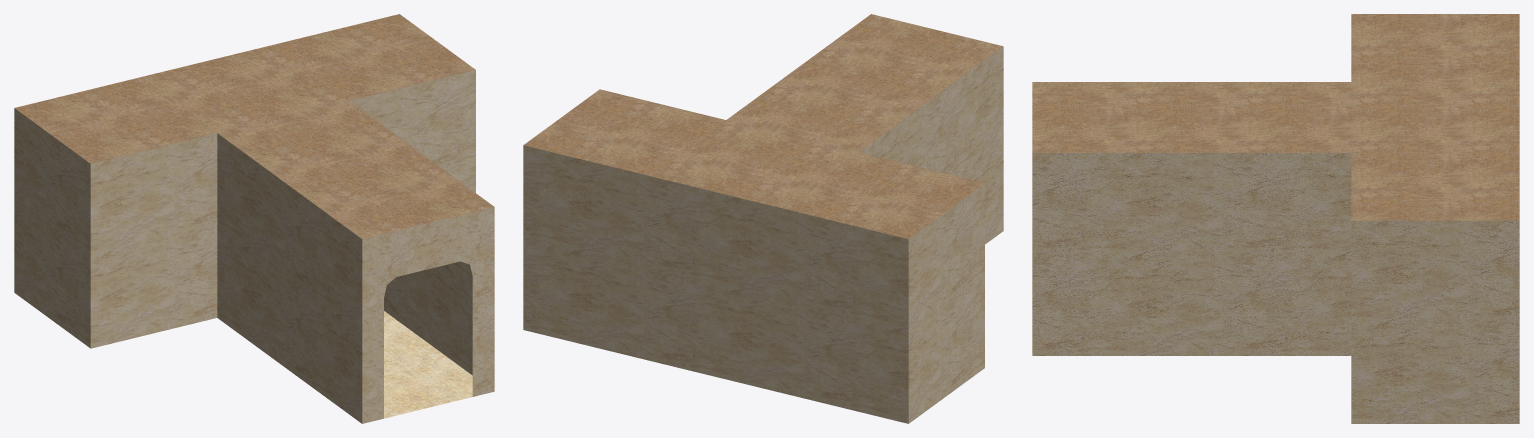
The model's file is thm_tato_imprv_building_s02_r1_foyer_mesh_l0.fbx.
3 renders of one model, left to right at view 1: azimuth 30°, elevation 25°; view 2: azimuth 150°, elevation 25°; view 3: azimuth 270°, elevation 25°, orthographic. The views are drawn at different scales.
Visible parts, largest first — view 1: mesh_node; view 2: mesh_node; view 3: mesh_node.
Boxes of the visible parts, <box> form: mesh_node: <box>14,14,494,423</box>; mesh_node: <box>523,14,1003,423</box>; mesh_node: <box>1032,14,1519,423</box>.
Bounding box in the file's own units: 8.73 × 4 × 8.69.
